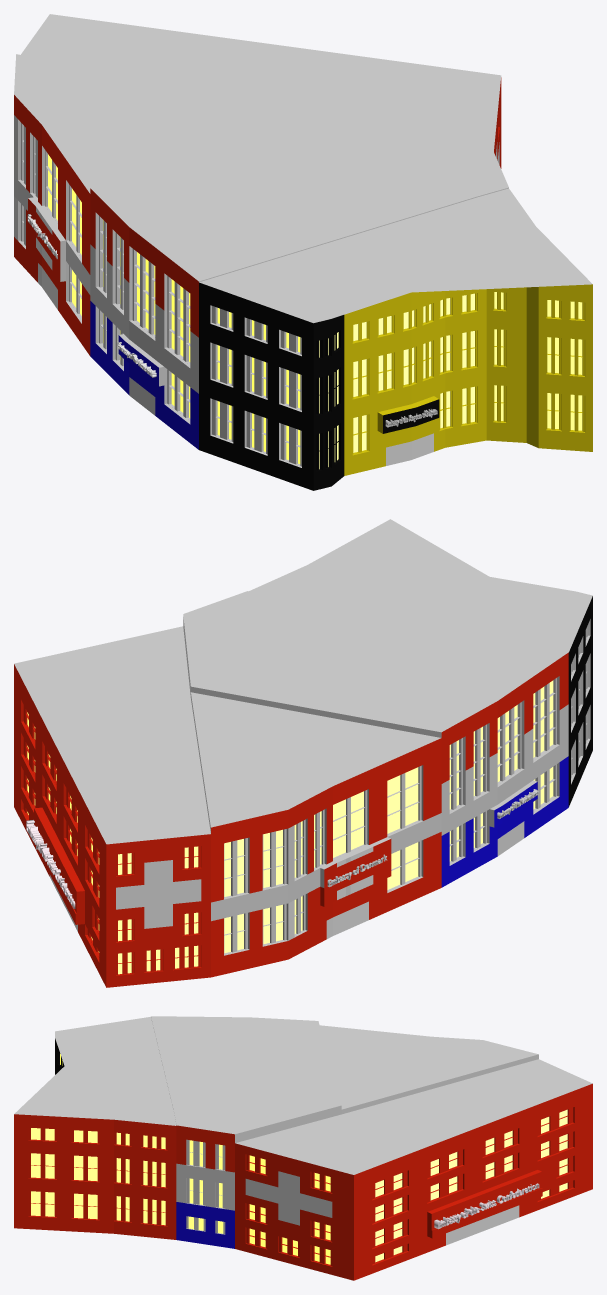
The model's file is danish_complex.fbx.
The picture shows the model from 3 angles, top to bottom: view 1: azimuth 30°, elevation 25°; view 2: azimuth 150°, elevation 25°; view 3: azimuth 270°, elevation 25°; orthographic projection. The views are drawn at different scales.
Parts seen in each view (by area): view 1: danish_complex; view 2: danish_complex; view 3: danish_complex.
Boxes of the visible parts, <box> form: danish_complex: <box>14,14,592,490</box>; danish_complex: <box>14,519,592,987</box>; danish_complex: <box>14,1016,592,1280</box>.
Size of the model in its own units: 572 by 201 by 919.
